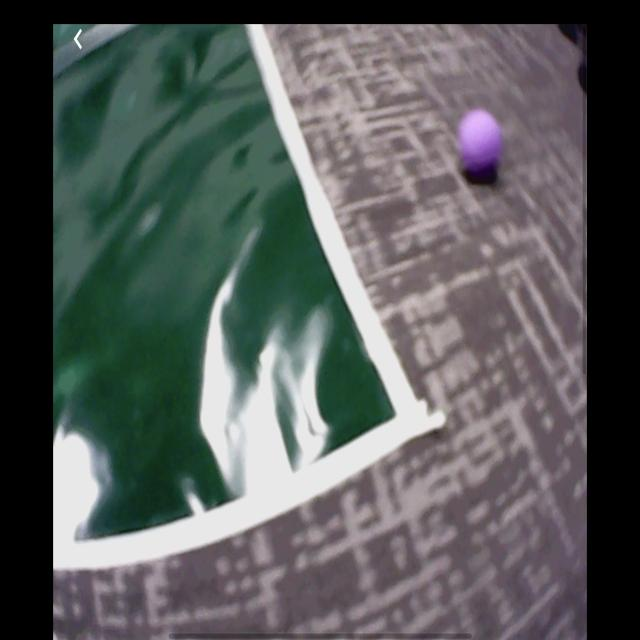ball: (461, 110, 504, 183)
